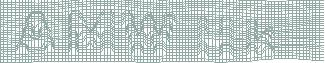A: (14, 10, 58, 56)
H: (195, 15, 236, 60)
M: (67, 10, 115, 56)
W: (121, 11, 178, 57)
k: (244, 18, 276, 58)
